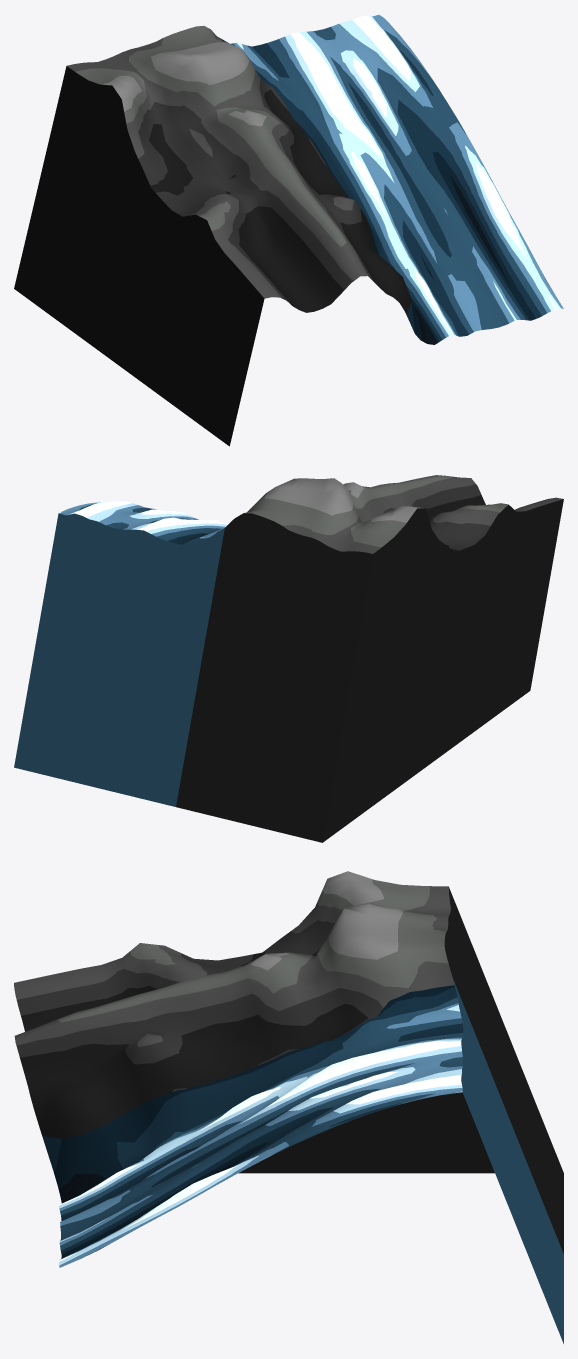
File: torm_fall_tl_234.glb
3 views of the same model, one above another, from view 1: azimuth 30°, elevation 25°; view 2: azimuth 150°, elevation 25°; view 3: azimuth 270°, elevation 25° (orthographic). The views are drawn at different scales.
Parts seen in each view (by area): view 1: torm_fall_tl_234; view 2: torm_fall_tl_234; view 3: torm_fall_tl_234.
Part boxes in pixels (x1=…): torm_fall_tl_234: x1=14, y1=14, x2=563, y2=446; torm_fall_tl_234: x1=14, y1=475, x2=563, y2=842; torm_fall_tl_234: x1=14, y1=871, x2=563, y2=1343.
Size of the model in its own units: 24 by 20.32 by 32.52.
